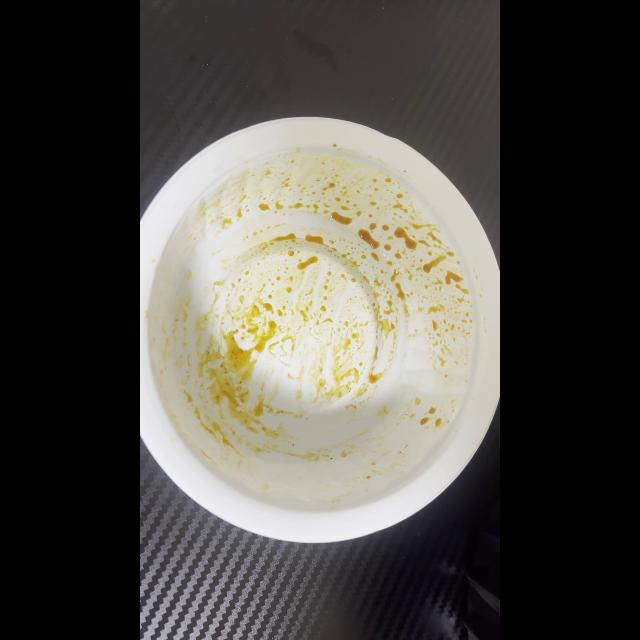dirty: (141, 119, 497, 537)
